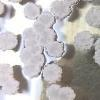white: (74, 29, 94, 53), (49, 0, 72, 20), (36, 27, 57, 48), (16, 47, 43, 63), (42, 63, 62, 84), (84, 5, 100, 29), (35, 9, 55, 28), (0, 30, 18, 51), (23, 1, 41, 20), (22, 63, 42, 80), (46, 41, 65, 58), (21, 27, 37, 47), (0, 62, 13, 86), (57, 85, 77, 100), (29, 51, 47, 66), (92, 36, 100, 68), (45, 84, 60, 100), (4, 78, 18, 95), (64, 0, 82, 8), (0, 1, 6, 16), (0, 89, 8, 100)
